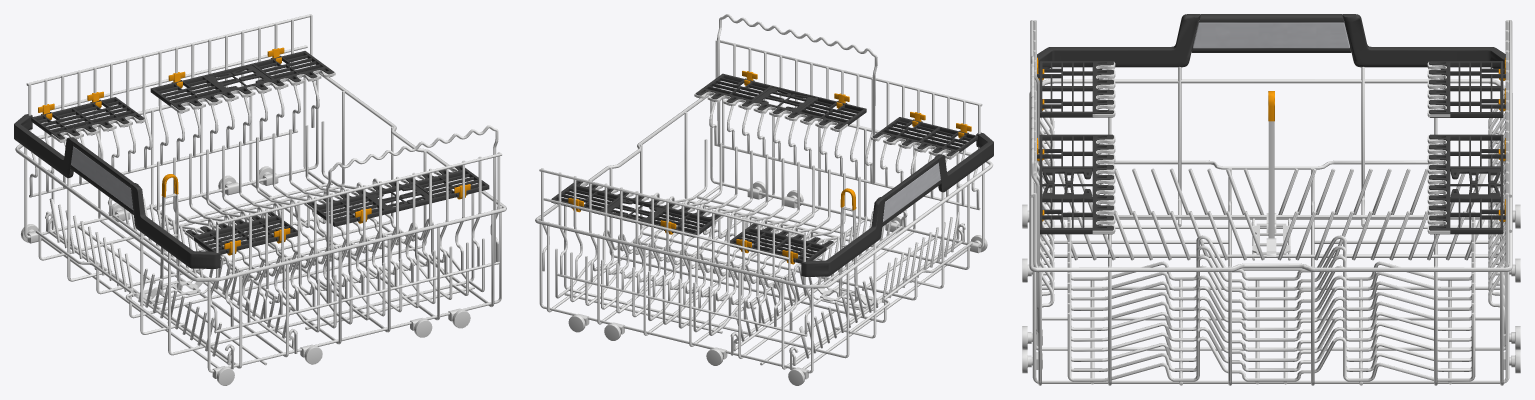
Rendered from SM_Dishwasher_Tray_01.dae.
The picture shows the model from 3 angles, left to right: view 1: azimuth 30°, elevation 25°; view 2: azimuth 150°, elevation 25°; view 3: azimuth 270°, elevation 25°; orthographic projection. The views are drawn at different scales.
Visible parts, largest first — view 1: SM_Dishwasher_Tray_01; view 2: SM_Dishwasher_Tray_01; view 3: SM_Dishwasher_Tray_01.
Boxes of the visible parts, left/top/right/bottom form: SM_Dishwasher_Tray_01: left=14, top=14, right=506, bottom=385; SM_Dishwasher_Tray_01: left=535, top=14, right=993, bottom=385; SM_Dishwasher_Tray_01: left=1022, top=14, right=1520, bottom=385.
Bounding box in the file's own units: 0.4931 × 0.5429 × 0.2913.
4 materials, 4 textured.
